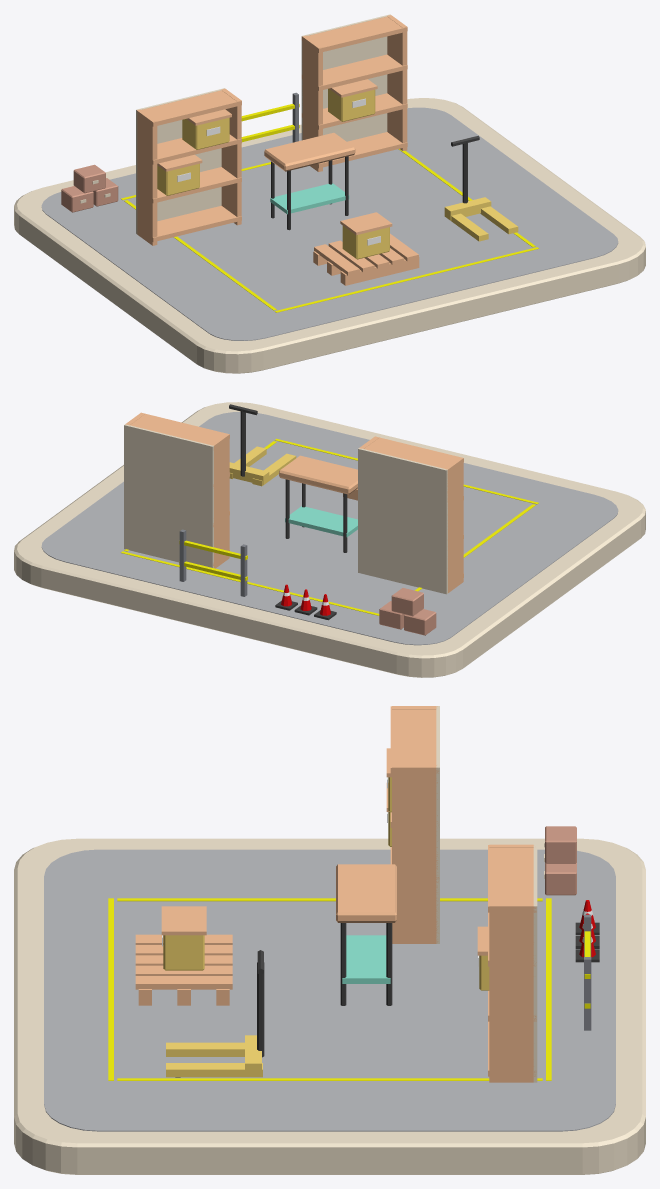
3 renders of one model, top to bottom at view 1: azimuth 30°, elevation 25°; view 2: azimuth 150°, elevation 25°; view 3: azimuth 270°, elevation 25°, orthographic. The views are drawn at different scales.
Parts seen in each view (by area): view 1: COM-02 Floor Surface, COM-01 Rounded Base Direct, Back.001, Back, Side, Worktop, Side.003, Side.002, Shelf.007, Shelf.003, Side.001, Shelf.006 (+17 smaller); view 2: COM-02 Floor Surface, COM-01 Rounded Base Direct, Back, Back.001, Worktop, Side, Side.002, Shelf.007, Shelf.003, Lower shelf, Stacked case.002, Stacked case (+5 smaller); view 3: COM-02 Floor Surface, COM-01 Rounded Base Direct, Side.003, Side.001, Worktop, Shelf.003, Shelf.007, Lower shelf, Box.003, Lid.003, Deck board.004, Fork.001 (+11 smaller).
Boxes of the visible parts, x1=… form: COM-02 Floor Surface: x1=41, y1=107, x2=618, y2=340; COM-01 Rounded Base Direct: x1=14, y1=98, x2=645, y2=373; Back.001: x1=301, y1=14, x2=390, y2=141; Back: x1=136, y1=88, x2=224, y2=234; Side: x1=137, y1=109, x2=157, y2=245; Worktop: x1=264, y1=132, x2=355, y2=171; Side.003: x1=387, y1=15, x2=407, y2=150; Side.002: x1=302, y1=35, x2=322, y2=171; Shelf.007: x1=301, y1=16, x2=407, y2=52; Shelf.003: x1=137, y1=90, x2=241, y2=126; Side.001: x1=221, y1=88, x2=241, y2=225; Shelf.006: x1=301, y1=54, x2=407, y2=90; COM-02 Floor Surface: x1=41, y1=412, x2=618, y2=645; COM-01 Rounded Base Direct: x1=14, y1=402, x2=645, y2=677; Back: x1=358, y1=448, x2=447, y2=594; Back.001: x1=124, y1=424, x2=213, y2=567; Worktop: x1=279, y1=455, x2=357, y2=494; Side: x1=444, y1=457, x2=463, y2=592; Side.002: x1=210, y1=433, x2=229, y2=568; Shelf.007: x1=130, y1=412, x2=229, y2=450; Shelf.003: x1=364, y1=436, x2=463, y2=473; Lower shelf: x1=285, y1=506, x2=357, y2=537; Stacked case.002: x1=391, y1=588, x2=423, y2=616; Stacked case: x1=404, y1=609, x2=436, y2=635; COM-02 Floor Surface: x1=44, y1=849, x2=615, y2=1131; COM-01 Rounded Base Direct: x1=14, y1=838, x2=645, y2=1174; Side.003: x1=489, y1=903, x2=533, y2=1082; Side.001: x1=392, y1=764, x2=438, y2=943; Worktop: x1=336, y1=864, x2=396, y2=922; Shelf.003: x1=390, y1=706, x2=438, y2=773; Shelf.007: x1=488, y1=845, x2=536, y2=912; Lower shelf: x1=342, y1=935, x2=390, y2=983; Box.003: x1=163, y1=935, x2=204, y2=970; Lid.003: x1=161, y1=906, x2=206, y2=935; Deck board.004: x1=135, y1=976, x2=232, y2=989; Fork.001: x1=166, y1=1063, x2=262, y2=1077.
Size of the model in its own units: 6 by 1.9 by 5.2.
Materials: 1 (1 with a texture image).
